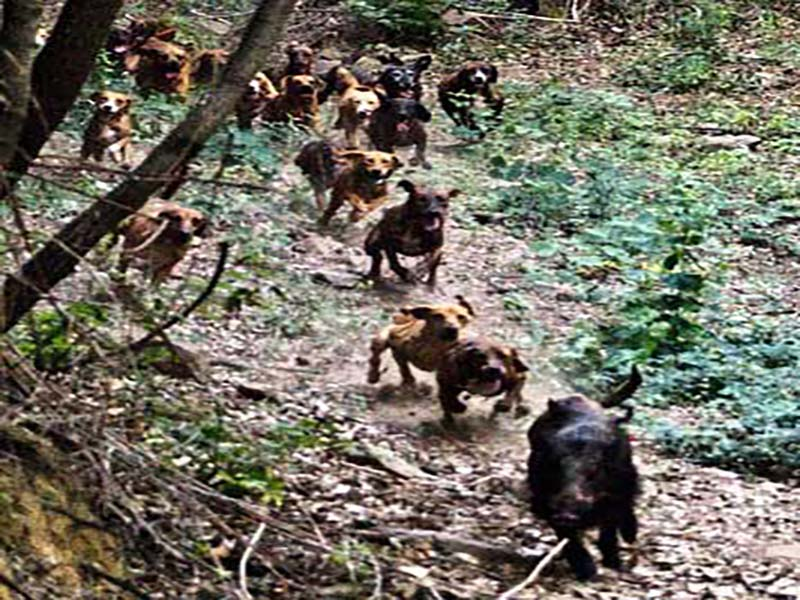cane da caccia: (108, 186, 218, 307), (359, 176, 462, 282), (436, 331, 534, 424), (365, 303, 472, 387), (330, 144, 400, 231), (441, 55, 506, 130), (370, 95, 436, 166), (81, 86, 138, 161), (131, 40, 192, 101), (269, 66, 324, 129)
cinghiale: (526, 384, 643, 570)
